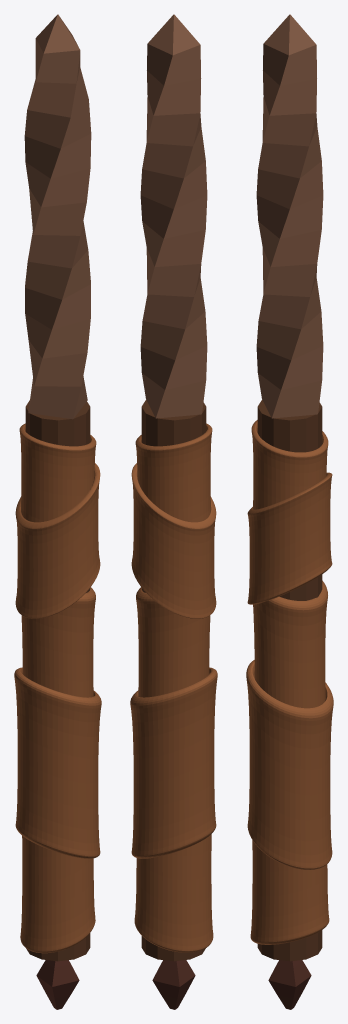
File: Wand 355.glb
The picture shows the model from 3 angles, left to right: view 1: azimuth 30°, elevation 25°; view 2: azimuth 150°, elevation 25°; view 3: azimuth 330°, elevation 25°; orthographic projection.
Visible parts, largest first — view 1: GeneratedWand; view 2: GeneratedWand; view 3: GeneratedWand.
Part boxes in pixels (bbox=[...]): GeneratedWand: bbox=[14, 14, 101, 1009]; GeneratedWand: bbox=[130, 14, 217, 1009]; GeneratedWand: bbox=[246, 14, 333, 1009].
Size of the model in its own units: 0.0408 by 0.5118 by 0.0408.
